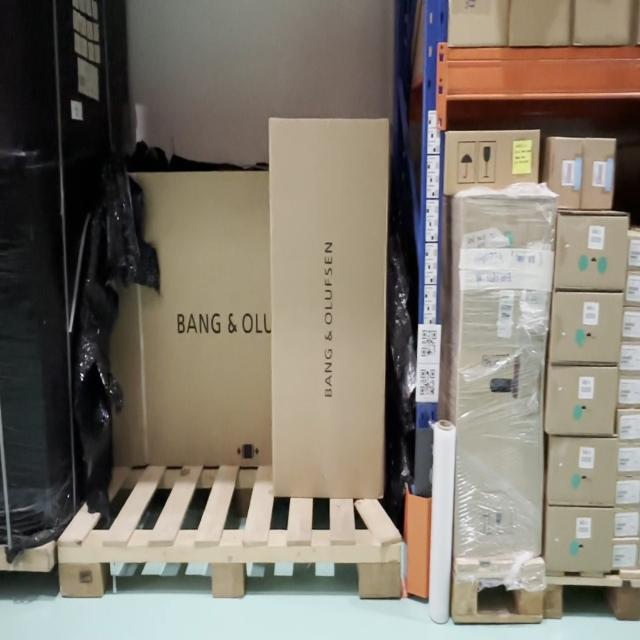box: (272, 118, 384, 500), (452, 201, 556, 559), (558, 208, 625, 292), (445, 132, 538, 188), (552, 291, 622, 363), (550, 371, 620, 435), (552, 438, 616, 506), (547, 507, 612, 572), (583, 137, 616, 215)
